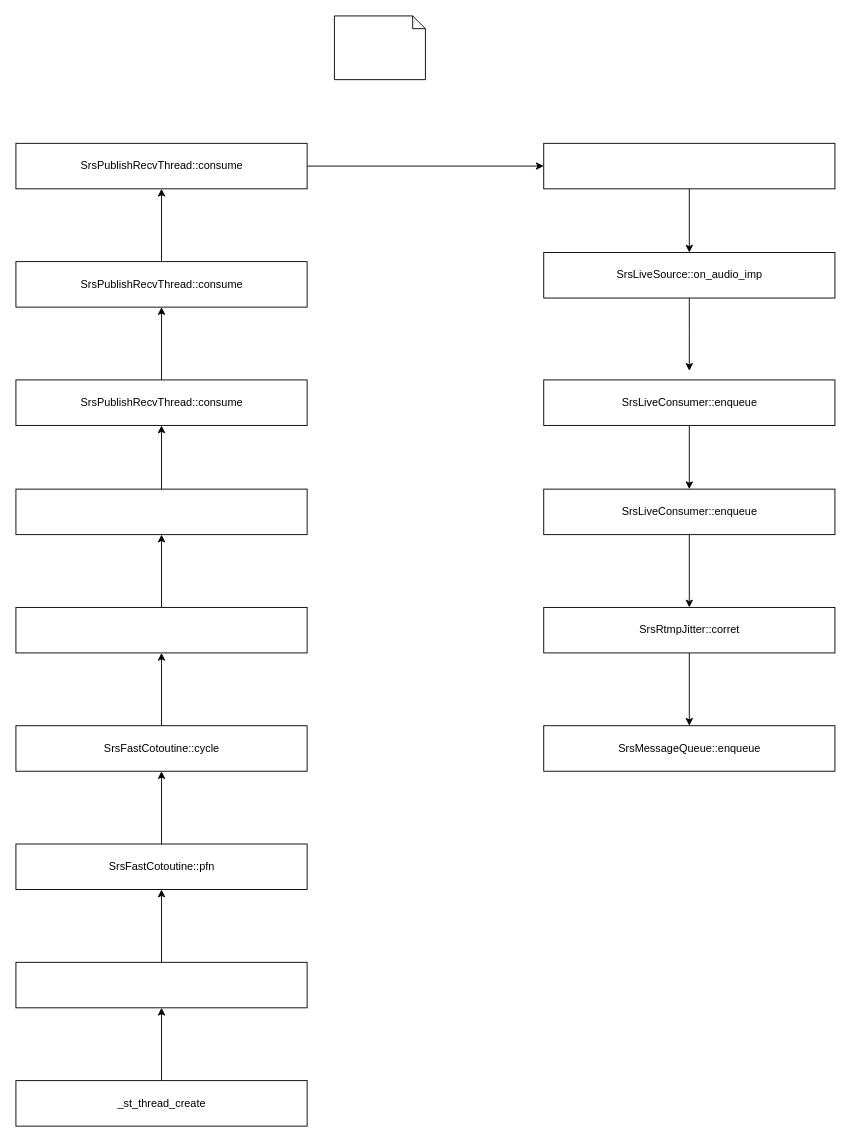
This 851x1142 diagram has some shape labels left out. Each missing label, with the centre of its shape:
_st_thread_main: pixel 161 984
SrsLiveSource::on_audio: pixel 689 165
SrsRecvThread::cycle: pixel 161 630
SrsRecvThread::do_cycle: pixel 161 511
数据流向草图: pixel 379 47
